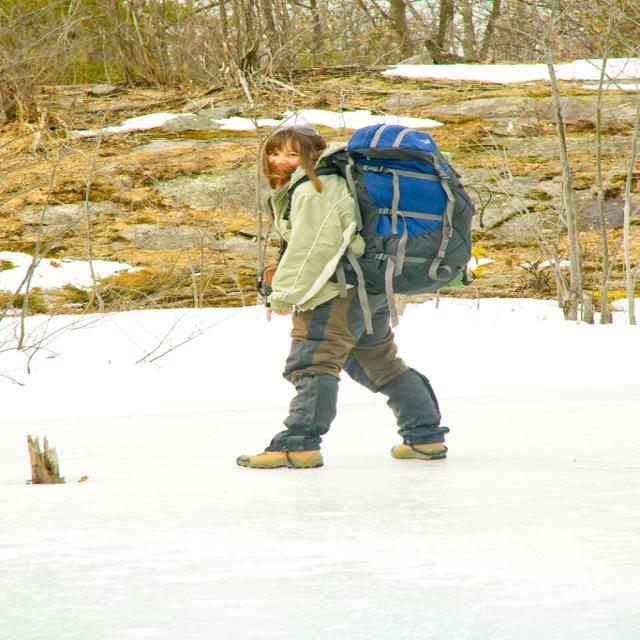backpack: (299, 121, 478, 303)
